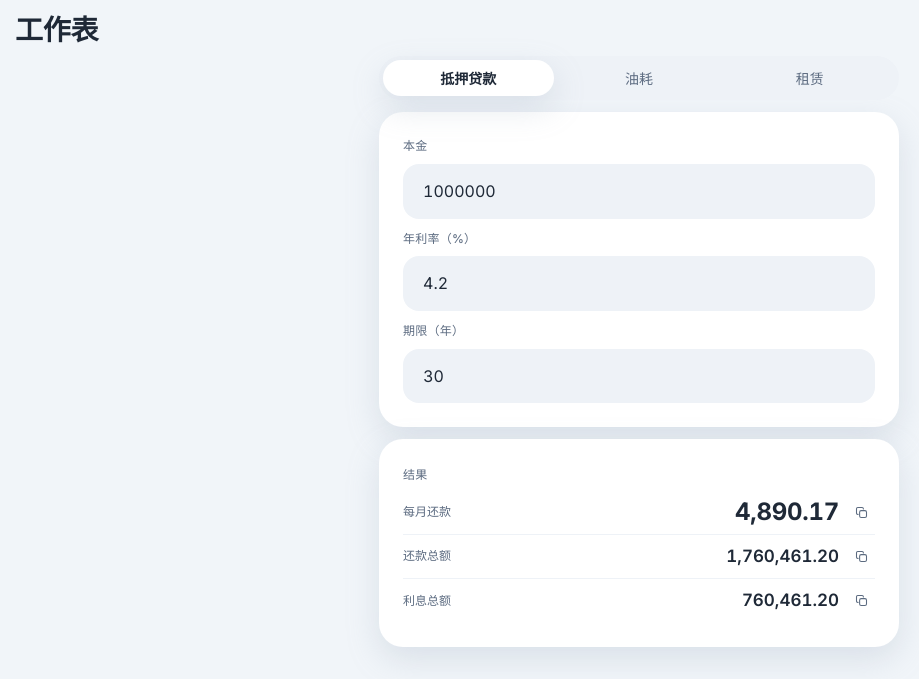
it: WorksheetsPage › shows cross-field rule errors on the offending field
This screenshot has width=919, height=679.
Click the radio button labelled "租赁" at {"x": 810, "y": 78}, box 724,60 -> 895,96
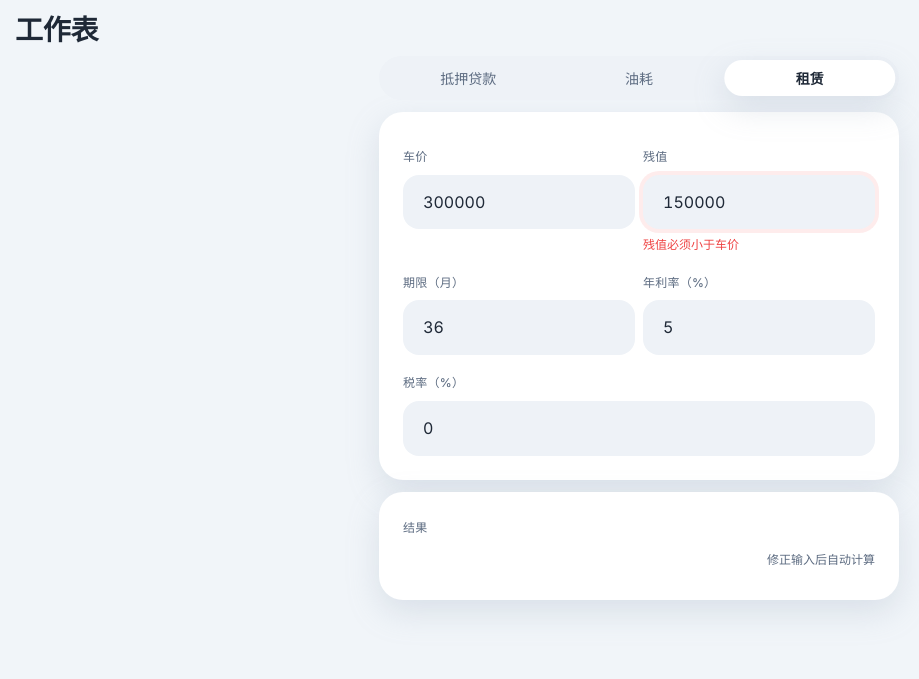
Result: the text "残值必须小于车价" is shown at 643,237 -> 739,252
